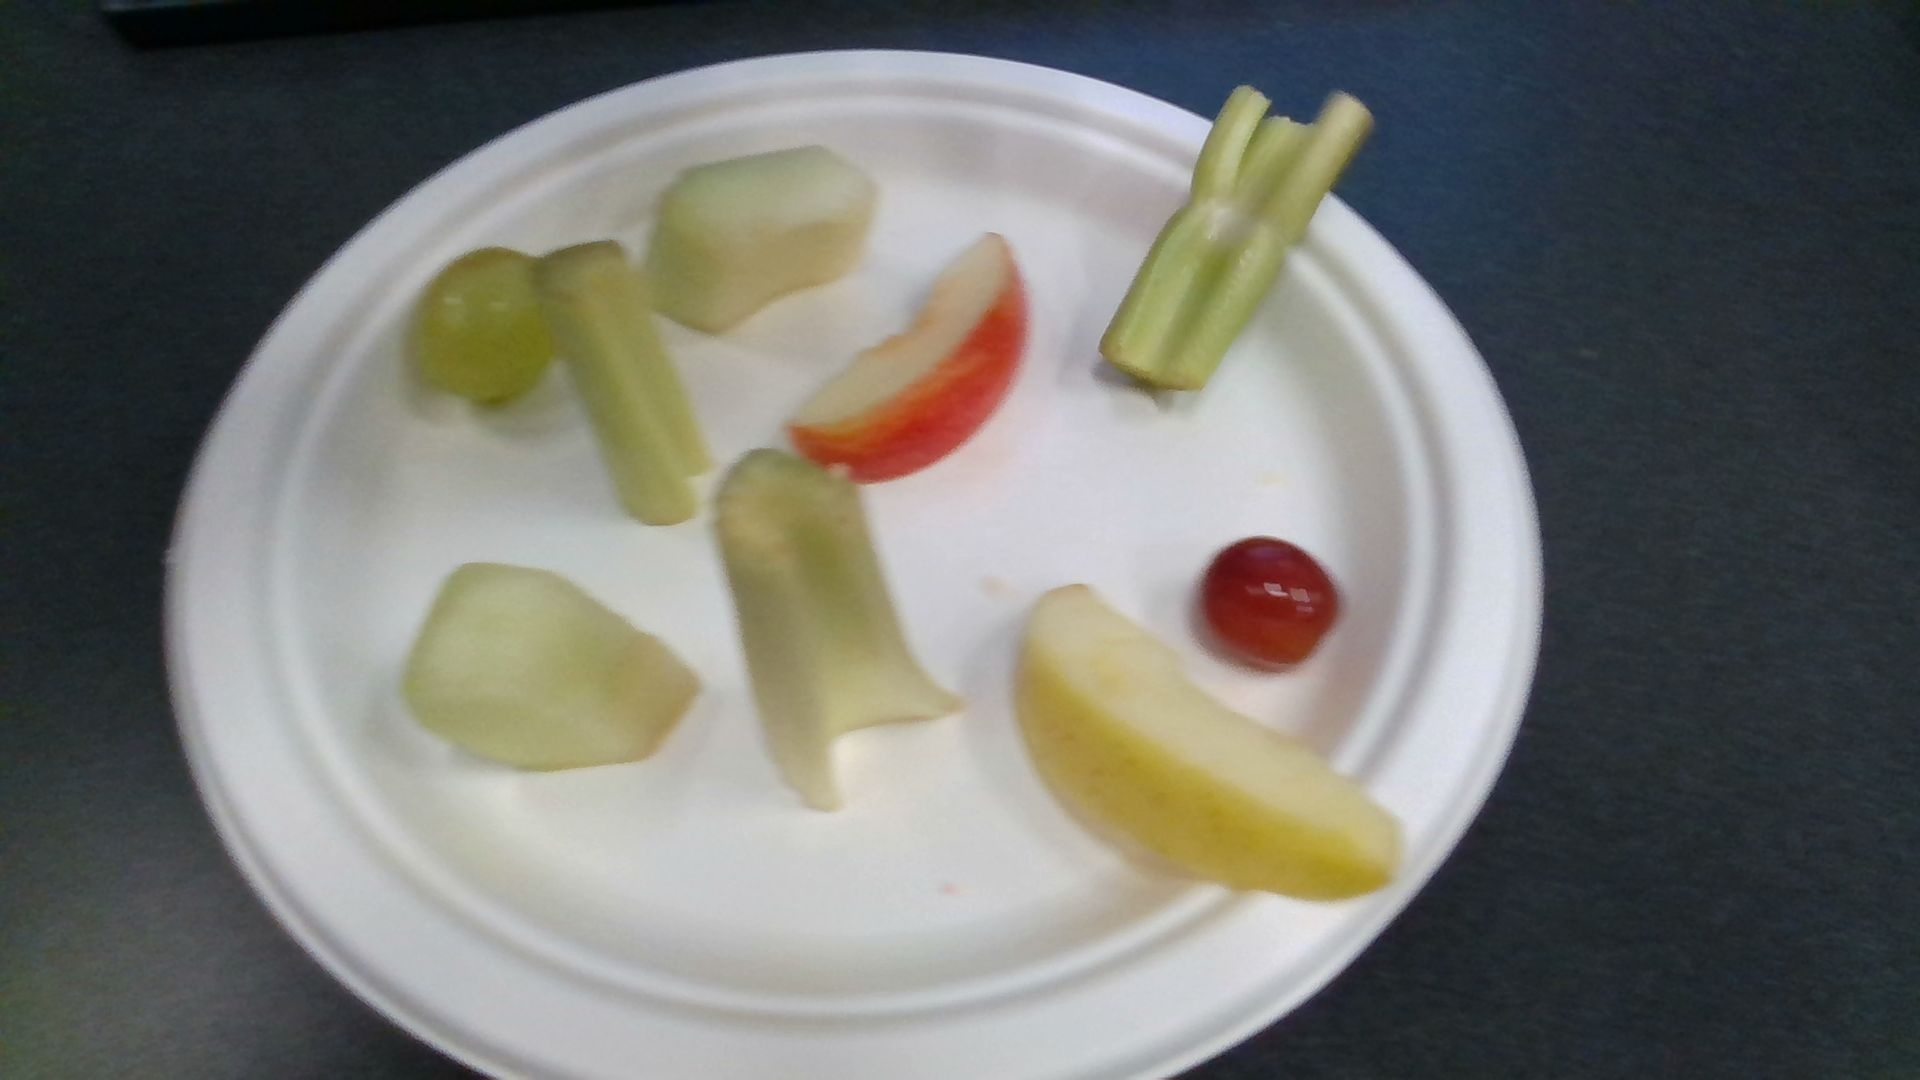apple: (1021, 585, 1396, 901), (789, 233, 1025, 481)
cantalope: (405, 563, 699, 771), (649, 148, 870, 334)
celery: (715, 451, 949, 811), (1100, 90, 1375, 392), (529, 240, 705, 525)
grape_green: (409, 251, 547, 404)
grape_purple: (1205, 538, 1338, 666)
